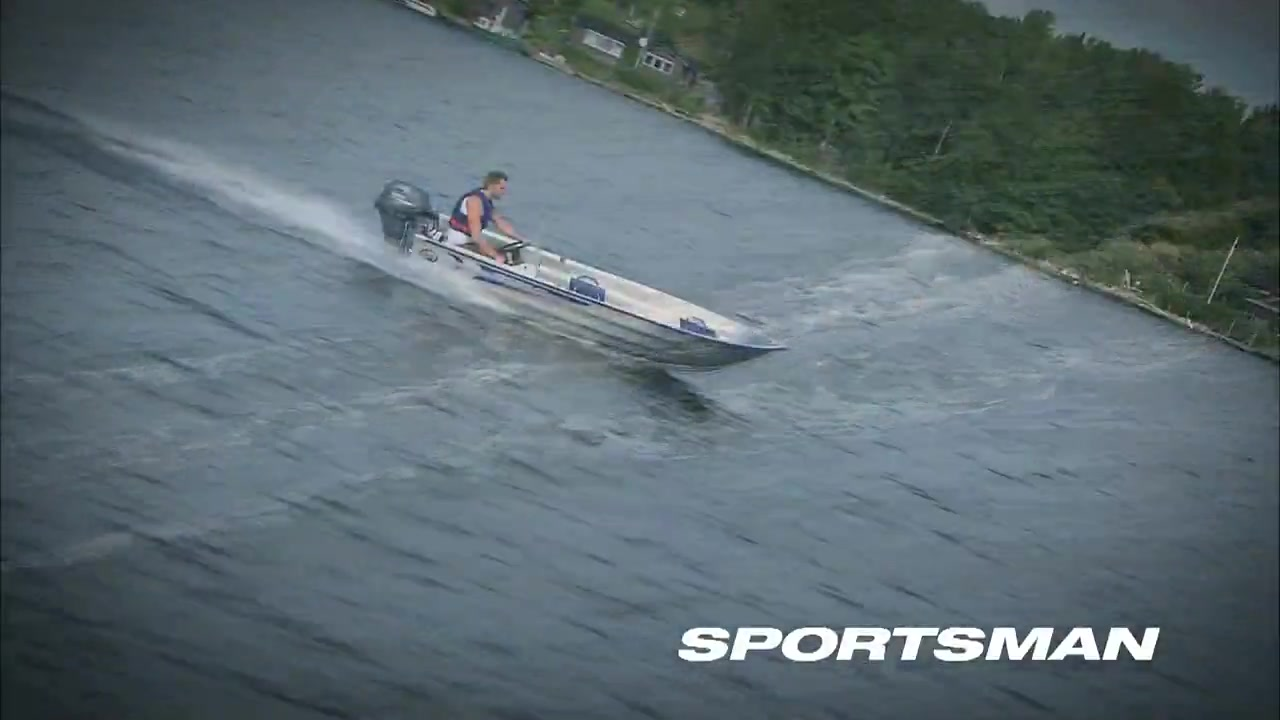boat: (370, 171, 792, 370)
